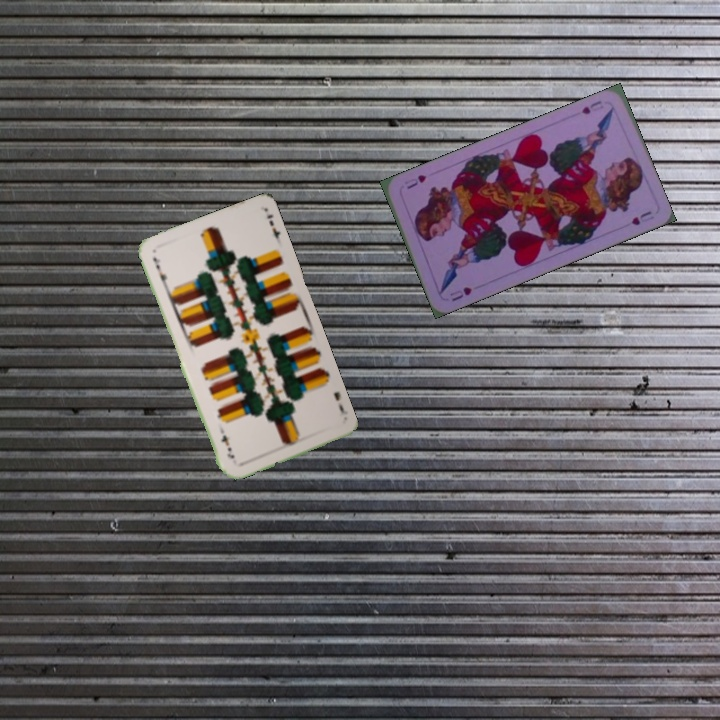E7: (149, 253, 169, 289), (330, 387, 349, 417)
HU: (447, 283, 474, 304), (577, 96, 604, 117)
